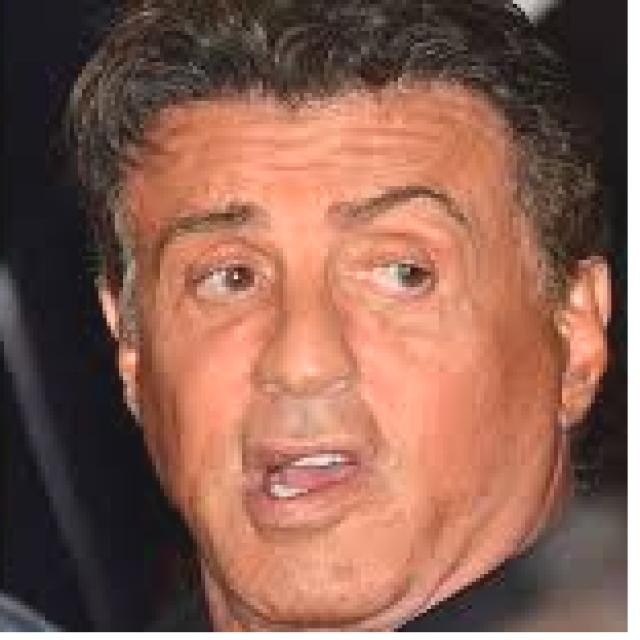stroke_face: (76, 5, 606, 614)
